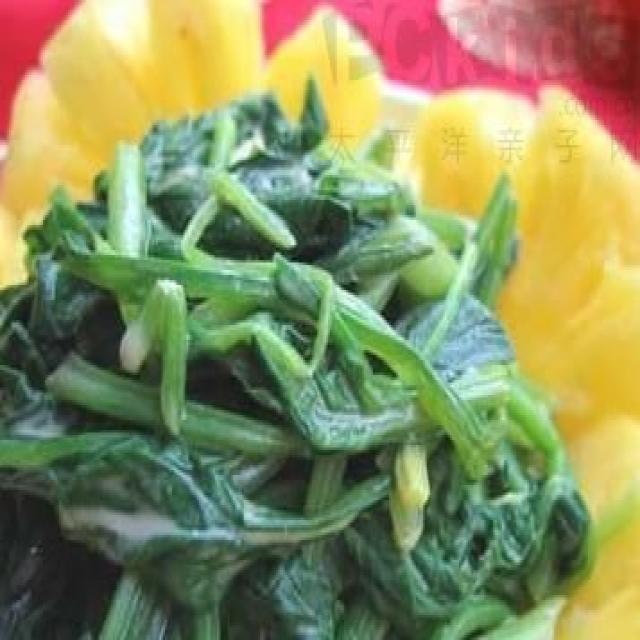蔬菜料理: (0, 25, 626, 640)
